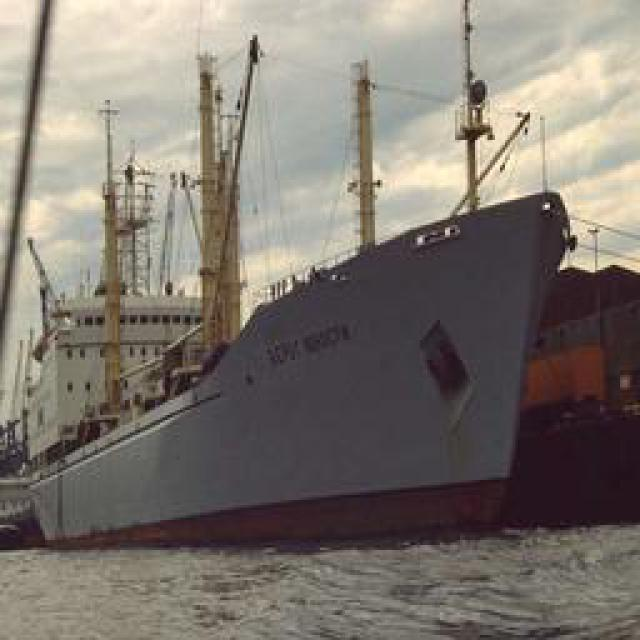Ship: (36, 59, 581, 552)
